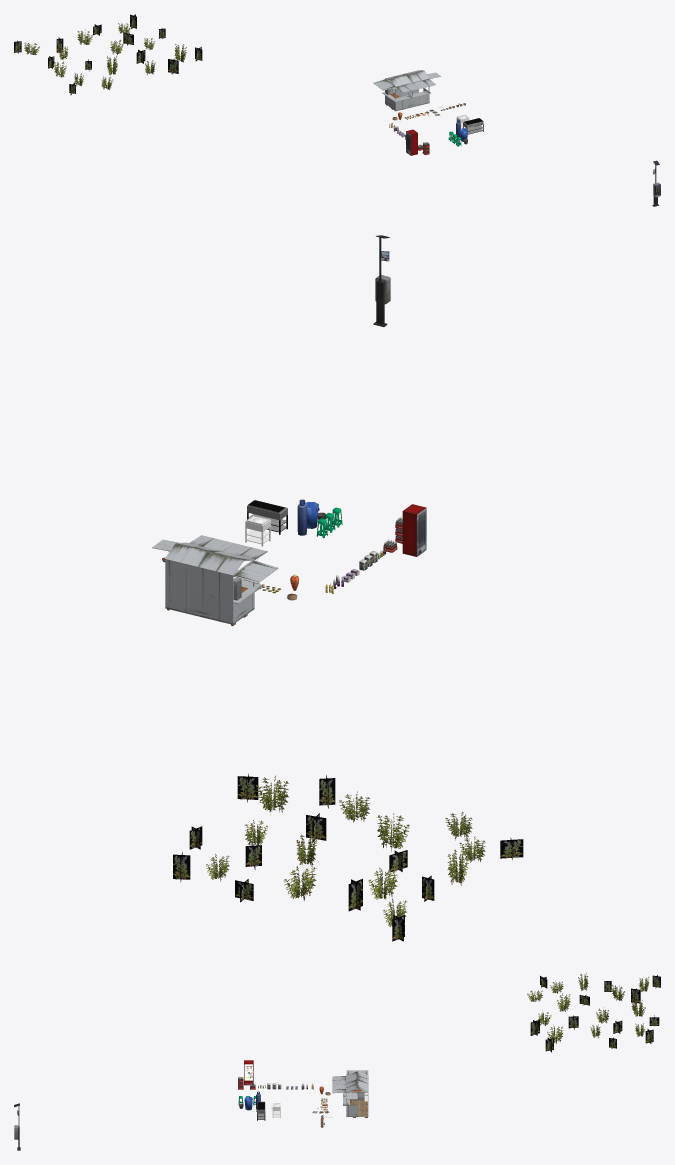
Rendered from assets.glb.
3 renders of one model, top to bottom at view 1: azimuth 30°, elevation 25°; view 2: azimuth 150°, elevation 25°; view 3: azimuth 270°, elevation 25°, orthographic. The views are drawn at different scales.
Parts seen in each view (by area): view 1: Plants_02-material.010, Object_20; view 2: Plants_02-material.010, Object_20, Refrigerator-material; view 3: Plants_02-material.010, Object_20.
Boxes of the visible parts, x1,y1,x2,y2 form: Plants_02-material.010: [14, 14, 202, 95]; Object_20: [373, 70, 440, 111]; Plants_02-material.010: [173, 773, 523, 941]; Object_20: [152, 535, 278, 625]; Refrigerator-material: [402, 504, 426, 556]; Plants_02-material.010: [527, 973, 660, 1052]; Object_20: [332, 1070, 368, 1117].
Size of the model in its own units: 33.35 by 4.35 by 55.65.
33 materials, 30 textured.
